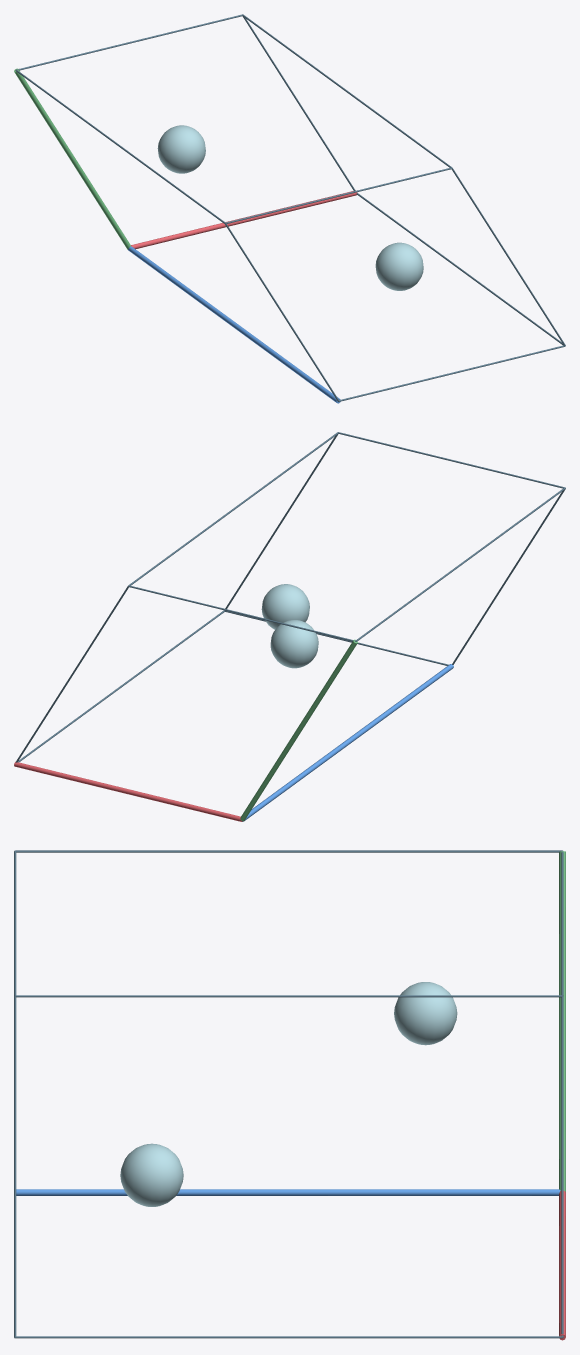
Rendered from nguyen-to-tl.glb.
The picture shows the model from 3 angles, top to bottom: view 1: azimuth 30°, elevation 25°; view 2: azimuth 150°, elevation 25°; view 3: azimuth 270°, elevation 25°; orthographic projection. The views are drawn at different scales.
Visible parts, largest first — view 1: Ô mạng và các trục a, b, c, Tl · Tl · 1 (×2); view 2: Ô mạng và các trục a, b, c, Tl · Tl · 1 (×2); view 3: Ô mạng và các trục a, b, c, Tl · Tl · 1 (×2).
Part boxes in pixels (x1,y1,x2,y2): Ô mạng và các trục a, b, c: (14,14,565,403); Tl · Tl · 1 (×2): (157,125,423,290); Ô mạng và các trục a, b, c: (14,432,565,821); Tl · Tl · 1 (×2): (261,584,318,668); Ô mạng và các trục a, b, c: (14,850,565,1340); Tl · Tl · 1 (×2): (120,982,457,1206).
Size of the model in its own units: 5.23 by 3.05 by 5.57.
